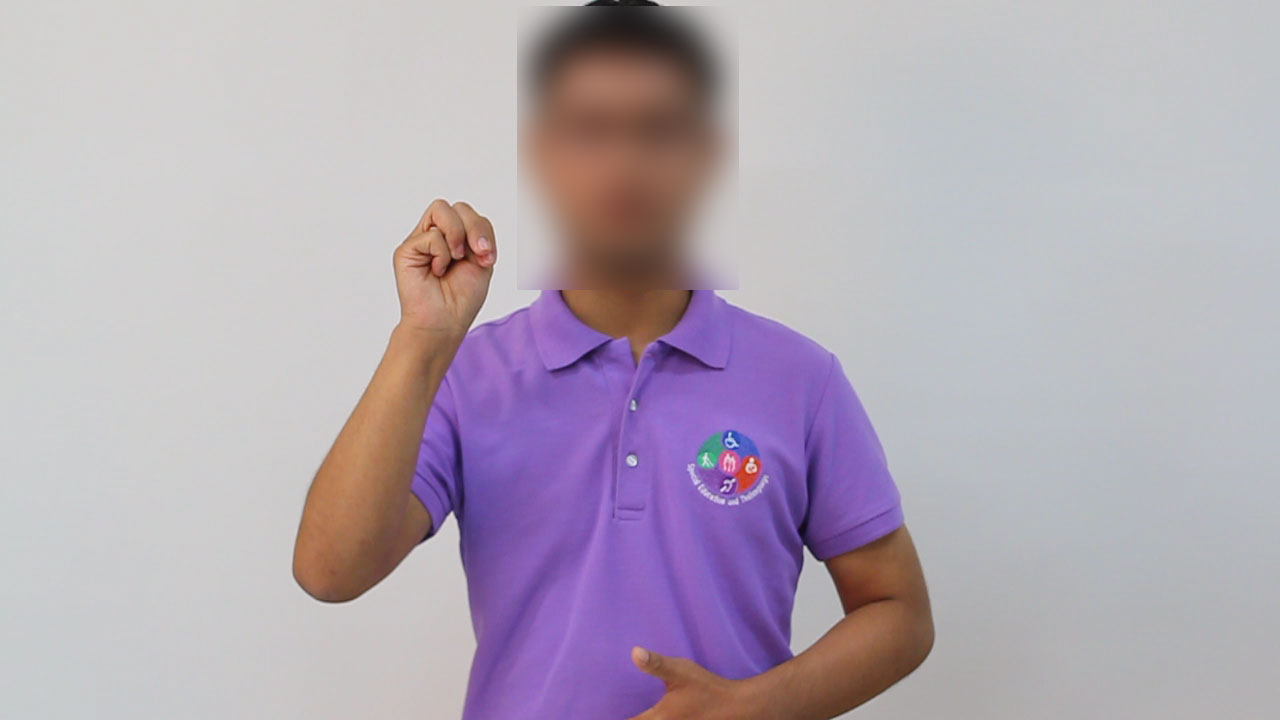mor: (383, 183, 503, 353)
